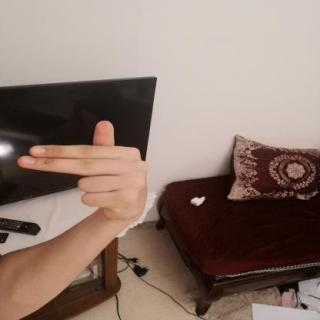GHAYN: (9, 114, 155, 231)
